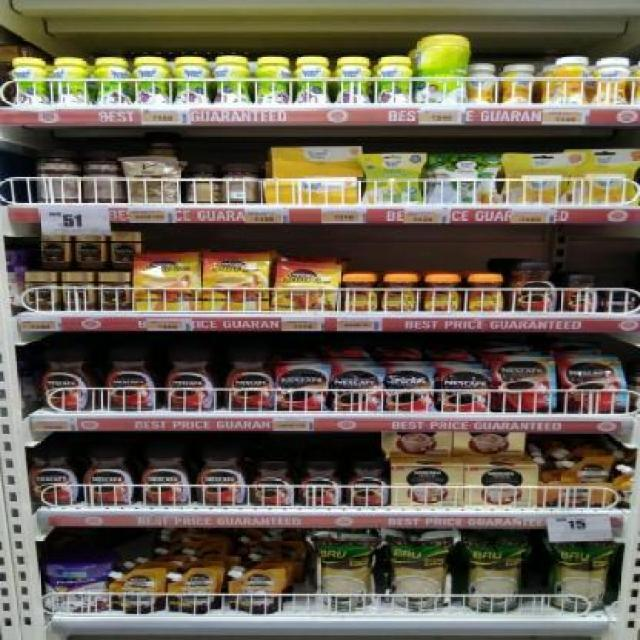Coffee: (98, 346, 160, 412), (159, 346, 221, 412), (558, 356, 628, 412), (221, 346, 279, 412), (39, 347, 98, 411), (135, 255, 201, 312), (203, 254, 267, 312), (493, 356, 555, 413), (193, 445, 249, 506), (138, 446, 195, 505), (82, 447, 138, 504), (276, 262, 339, 311), (28, 447, 81, 505), (508, 261, 561, 312), (342, 461, 392, 505), (278, 367, 327, 411), (332, 367, 381, 411), (250, 461, 296, 507), (441, 370, 488, 413), (386, 368, 432, 411), (300, 461, 344, 505), (463, 274, 505, 312), (341, 273, 381, 311), (383, 275, 422, 312), (423, 275, 463, 311), (63, 271, 99, 310), (97, 271, 133, 309), (25, 270, 58, 311), (565, 275, 601, 311), (75, 235, 108, 269), (110, 232, 139, 270), (39, 235, 70, 269), (606, 289, 640, 313)
